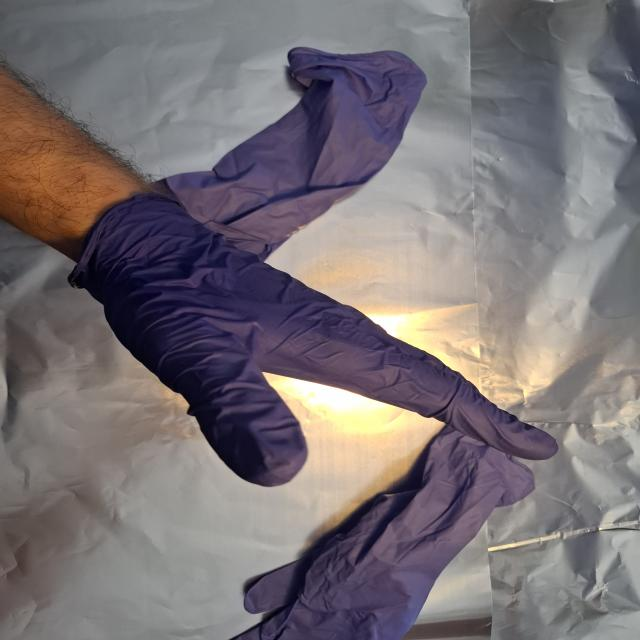glove_on: (77, 194, 564, 490)
